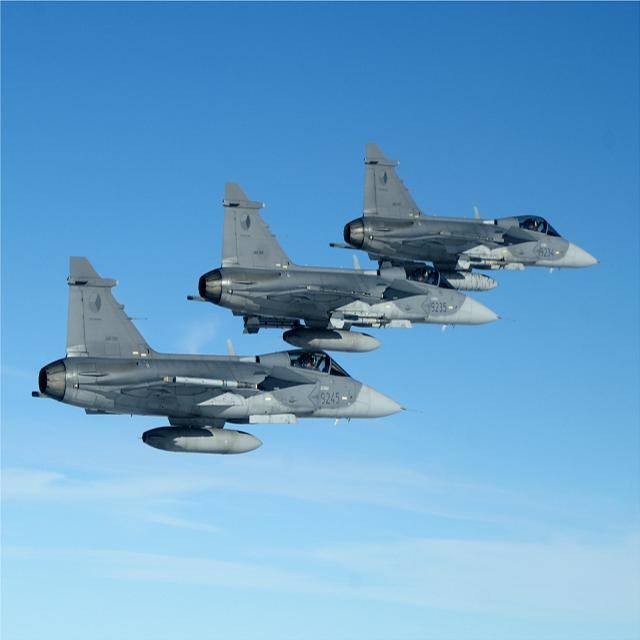MIL_Plane: (31, 256, 422, 454), (187, 182, 516, 352), (329, 142, 613, 292)
